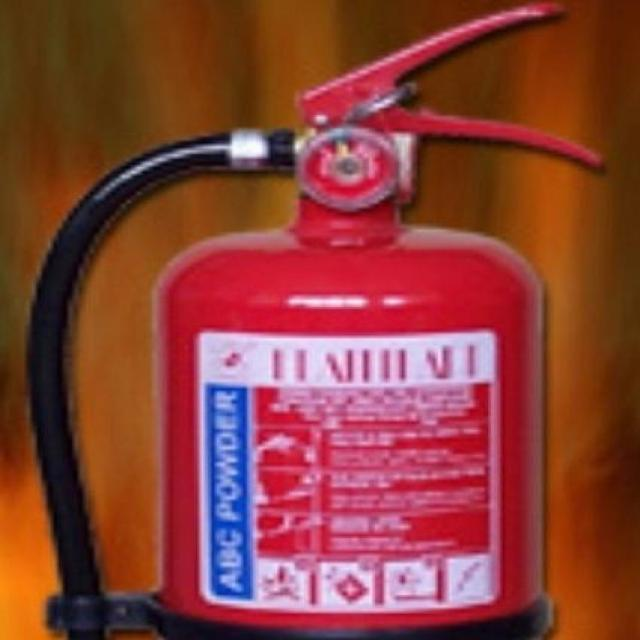fire_extinguisher: (17, 0, 614, 639)
